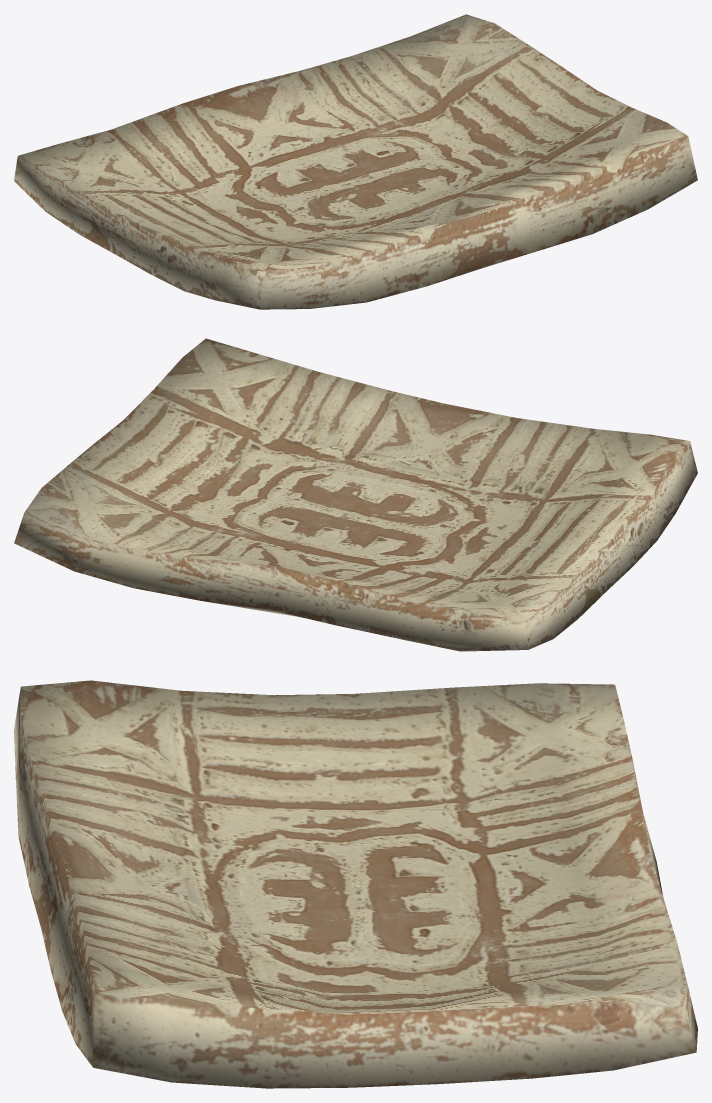
Rendered from HandmadeAshtray.fbx.
The picture shows the model from 3 angles, top to bottom: view 1: azimuth 30°, elevation 25°; view 2: azimuth 150°, elevation 25°; view 3: azimuth 270°, elevation 25°; orthographic projection. The views are drawn at different scales.
Parts seen in each view (by area): view 1: Piattino_lowpoly; view 2: Piattino_lowpoly; view 3: Piattino_lowpoly.
Part boxes in pixels (bbox=[...]): Piattino_lowpoly: bbox=[14, 14, 697, 309]; Piattino_lowpoly: bbox=[14, 338, 697, 651]; Piattino_lowpoly: bbox=[14, 680, 697, 1088].
Size of the model in its own units: 3543 by 689 by 2836.
